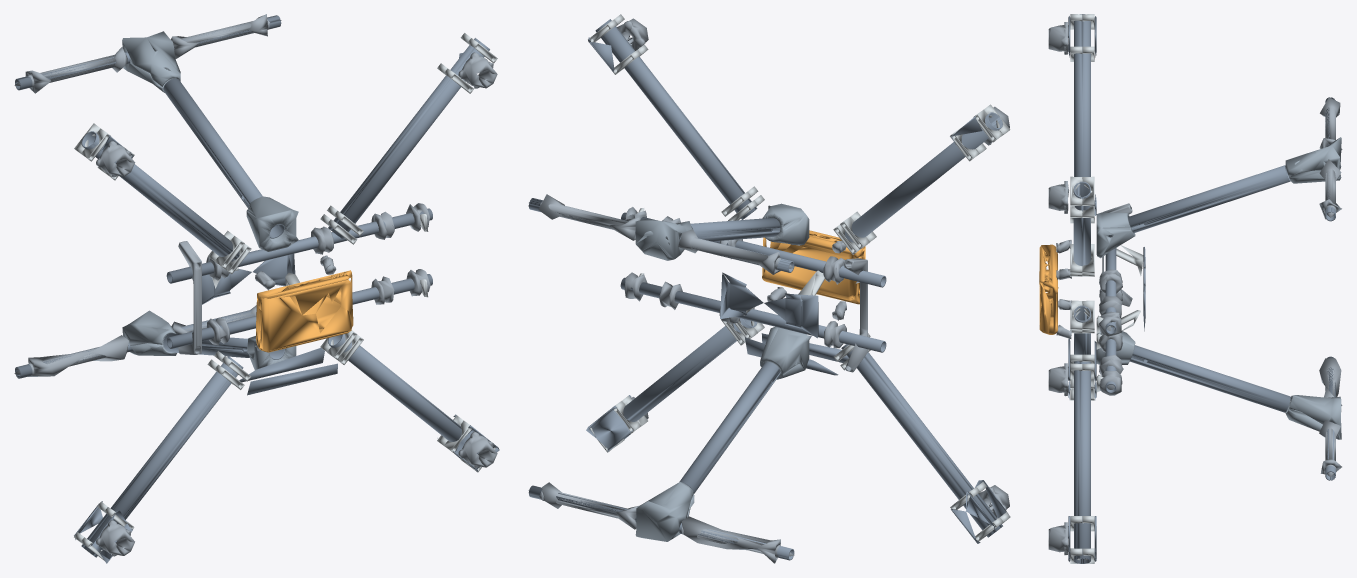
3 renders of one model, left to right at view 1: azimuth 30°, elevation 25°; view 2: azimuth 150°, elevation 25°; view 3: azimuth 270°, elevation 25°, orthographic. The views are drawn at different scales.
Parts seen in each view (by area): view 1: base_link_visual-2, base_link_visual-7, base_link_visual-5, base_link_visual-3, base_link_visual-0, base_link_visual-4, base_link_visual-6, 5010_motor_base_0-0, 5010_motor_base_2-0, 5010_motor_base_1-0, 5010_motor_base_3-0; view 2: base_link_visual-2, base_link_visual-7, base_link_visual-0, base_link_visual-3, base_link_visual-5, base_link_visual-4, base_link_visual-6, 5010_motor_base_0-0; view 3: base_link_visual-2, base_link_visual-7, base_link_visual-3, base_link_visual-0, base_link_visual-4, base_link_visual-5, base_link_visual-8, 5010_motor_base_2-0, 5010_motor_base_1-0, 5010_motor_base_0-0, 5010_motor_base_3-0.
Boxes of the visible parts, x1,y1,x2,y2 form: base_link_visual-2: [15, 15, 499, 563]; base_link_visual-7: [122, 31, 298, 369]; base_link_visual-5: [256, 270, 353, 352]; base_link_visual-3: [74, 33, 497, 560]; base_link_visual-0: [25, 14, 267, 376]; base_link_visual-4: [206, 203, 430, 345]; base_link_visual-6: [178, 241, 201, 354]; 5010_motor_base_0-0: [458, 52, 497, 88]; 5010_motor_base_2-0: [458, 431, 497, 467]; 5010_motor_base_1-0: [96, 141, 135, 177]; 5010_motor_base_3-0: [96, 520, 134, 556]; base_link_visual-2: [528, 19, 1007, 560]; base_link_visual-7: [635, 203, 811, 541]; base_link_visual-0: [538, 194, 780, 563]; base_link_visual-3: [588, 14, 1010, 541]; base_link_visual-5: [762, 230, 865, 304]; base_link_visual-4: [624, 207, 846, 348]; base_link_visual-6: [844, 258, 867, 372]; 5010_motor_base_0-0: [617, 18, 648, 50]; base_link_visual-2: [1068, 14, 1335, 563]; base_link_visual-7: [1096, 137, 1341, 439]; base_link_visual-3: [1070, 14, 1143, 563]; base_link_visual-0: [1319, 97, 1342, 474]; base_link_visual-4: [1098, 269, 1123, 395]; base_link_visual-5: [1039, 244, 1058, 334]; base_link_visual-8: [1056, 240, 1071, 338]; 5010_motor_base_2-0: [1048, 522, 1068, 555]; 5010_motor_base_1-0: [1048, 22, 1068, 54]; 5010_motor_base_0-0: [1048, 181, 1068, 213]; 5010_motor_base_3-0: [1048, 363, 1068, 396].
Size of the model in its own units: 0.3955 by 0.3949 by 0.2803.
